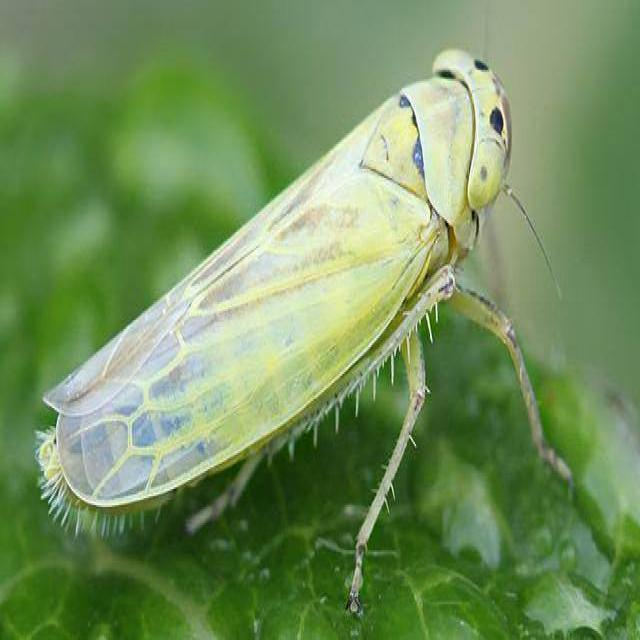Yechan: (28, 36, 521, 552)
